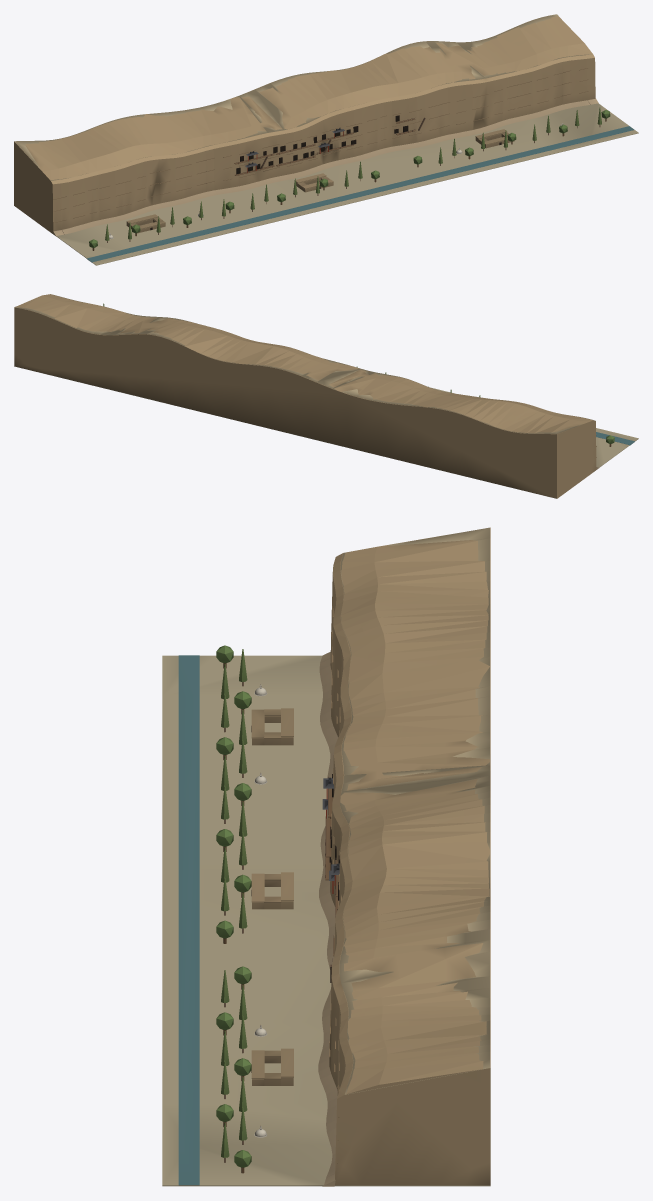
File: mogao-500.glb
3 views of the same model, one above another, from view 1: azimuth 30°, elevation 25°; view 2: azimuth 150°, elevation 25°; view 3: azimuth 270°, elevation 25° (orthographic). The views are drawn at different scales.
Visible parts, largest first — view 1: p0_valley, p1_stupas, p2_trees; view 2: p0_valley; view 3: p0_valley, p2_trees, p1_stupas.
Boxes of the visible parts, x1,y1,x2,y2 form: p0_valley: [14, 14, 638, 265]; p1_stupas: [109, 115, 563, 239]; p2_trees: [89, 107, 610, 250]; p0_valley: [14, 294, 638, 498]; p0_valley: [162, 527, 490, 1186]; p2_trees: [216, 645, 339, 1173]; p1_stupas: [251, 684, 339, 1137].
Bounding box in the file's own units: 420 × 48.48 × 110.
